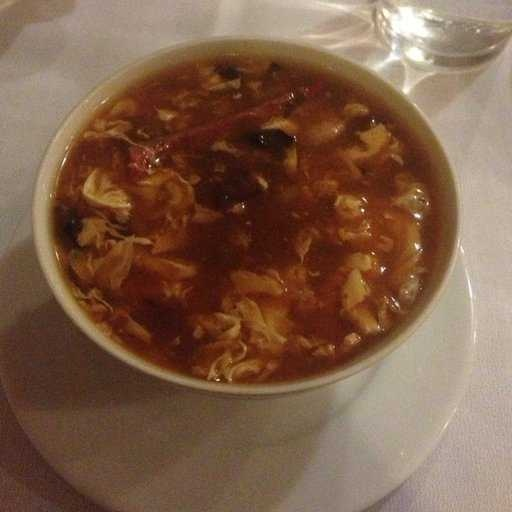soup: (44, 40, 433, 373)
